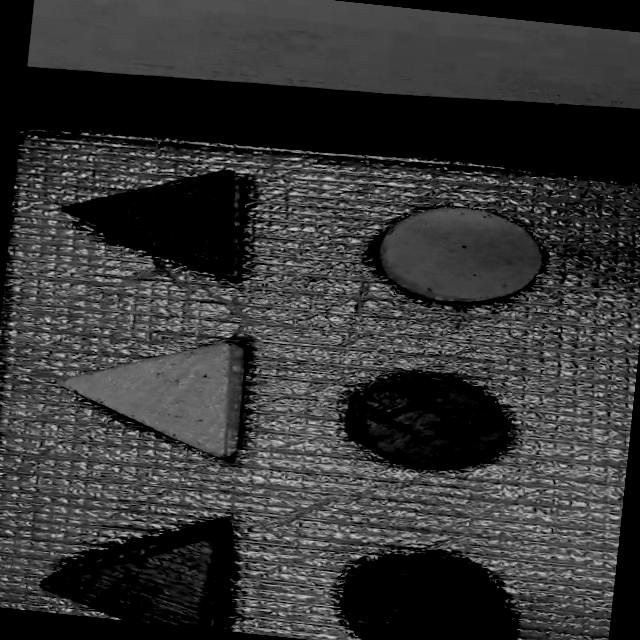btriangle: (44, 133, 288, 300)
rcircle: (316, 346, 530, 494)
ycircle: (357, 189, 578, 319)
ytriangle: (38, 318, 284, 462)
